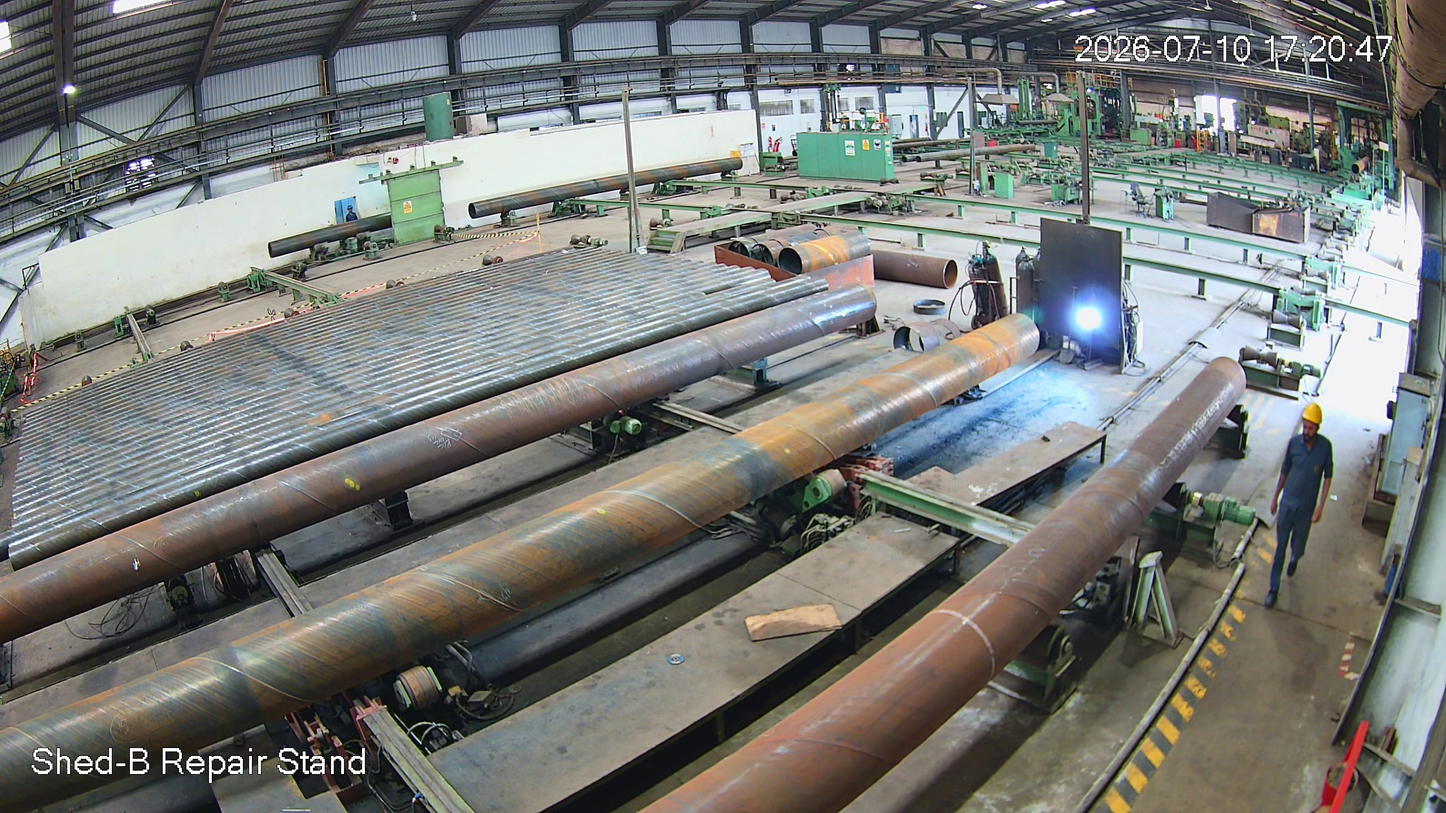Helmet: (1291, 394, 1342, 463)
Person: (1258, 404, 1348, 615)
